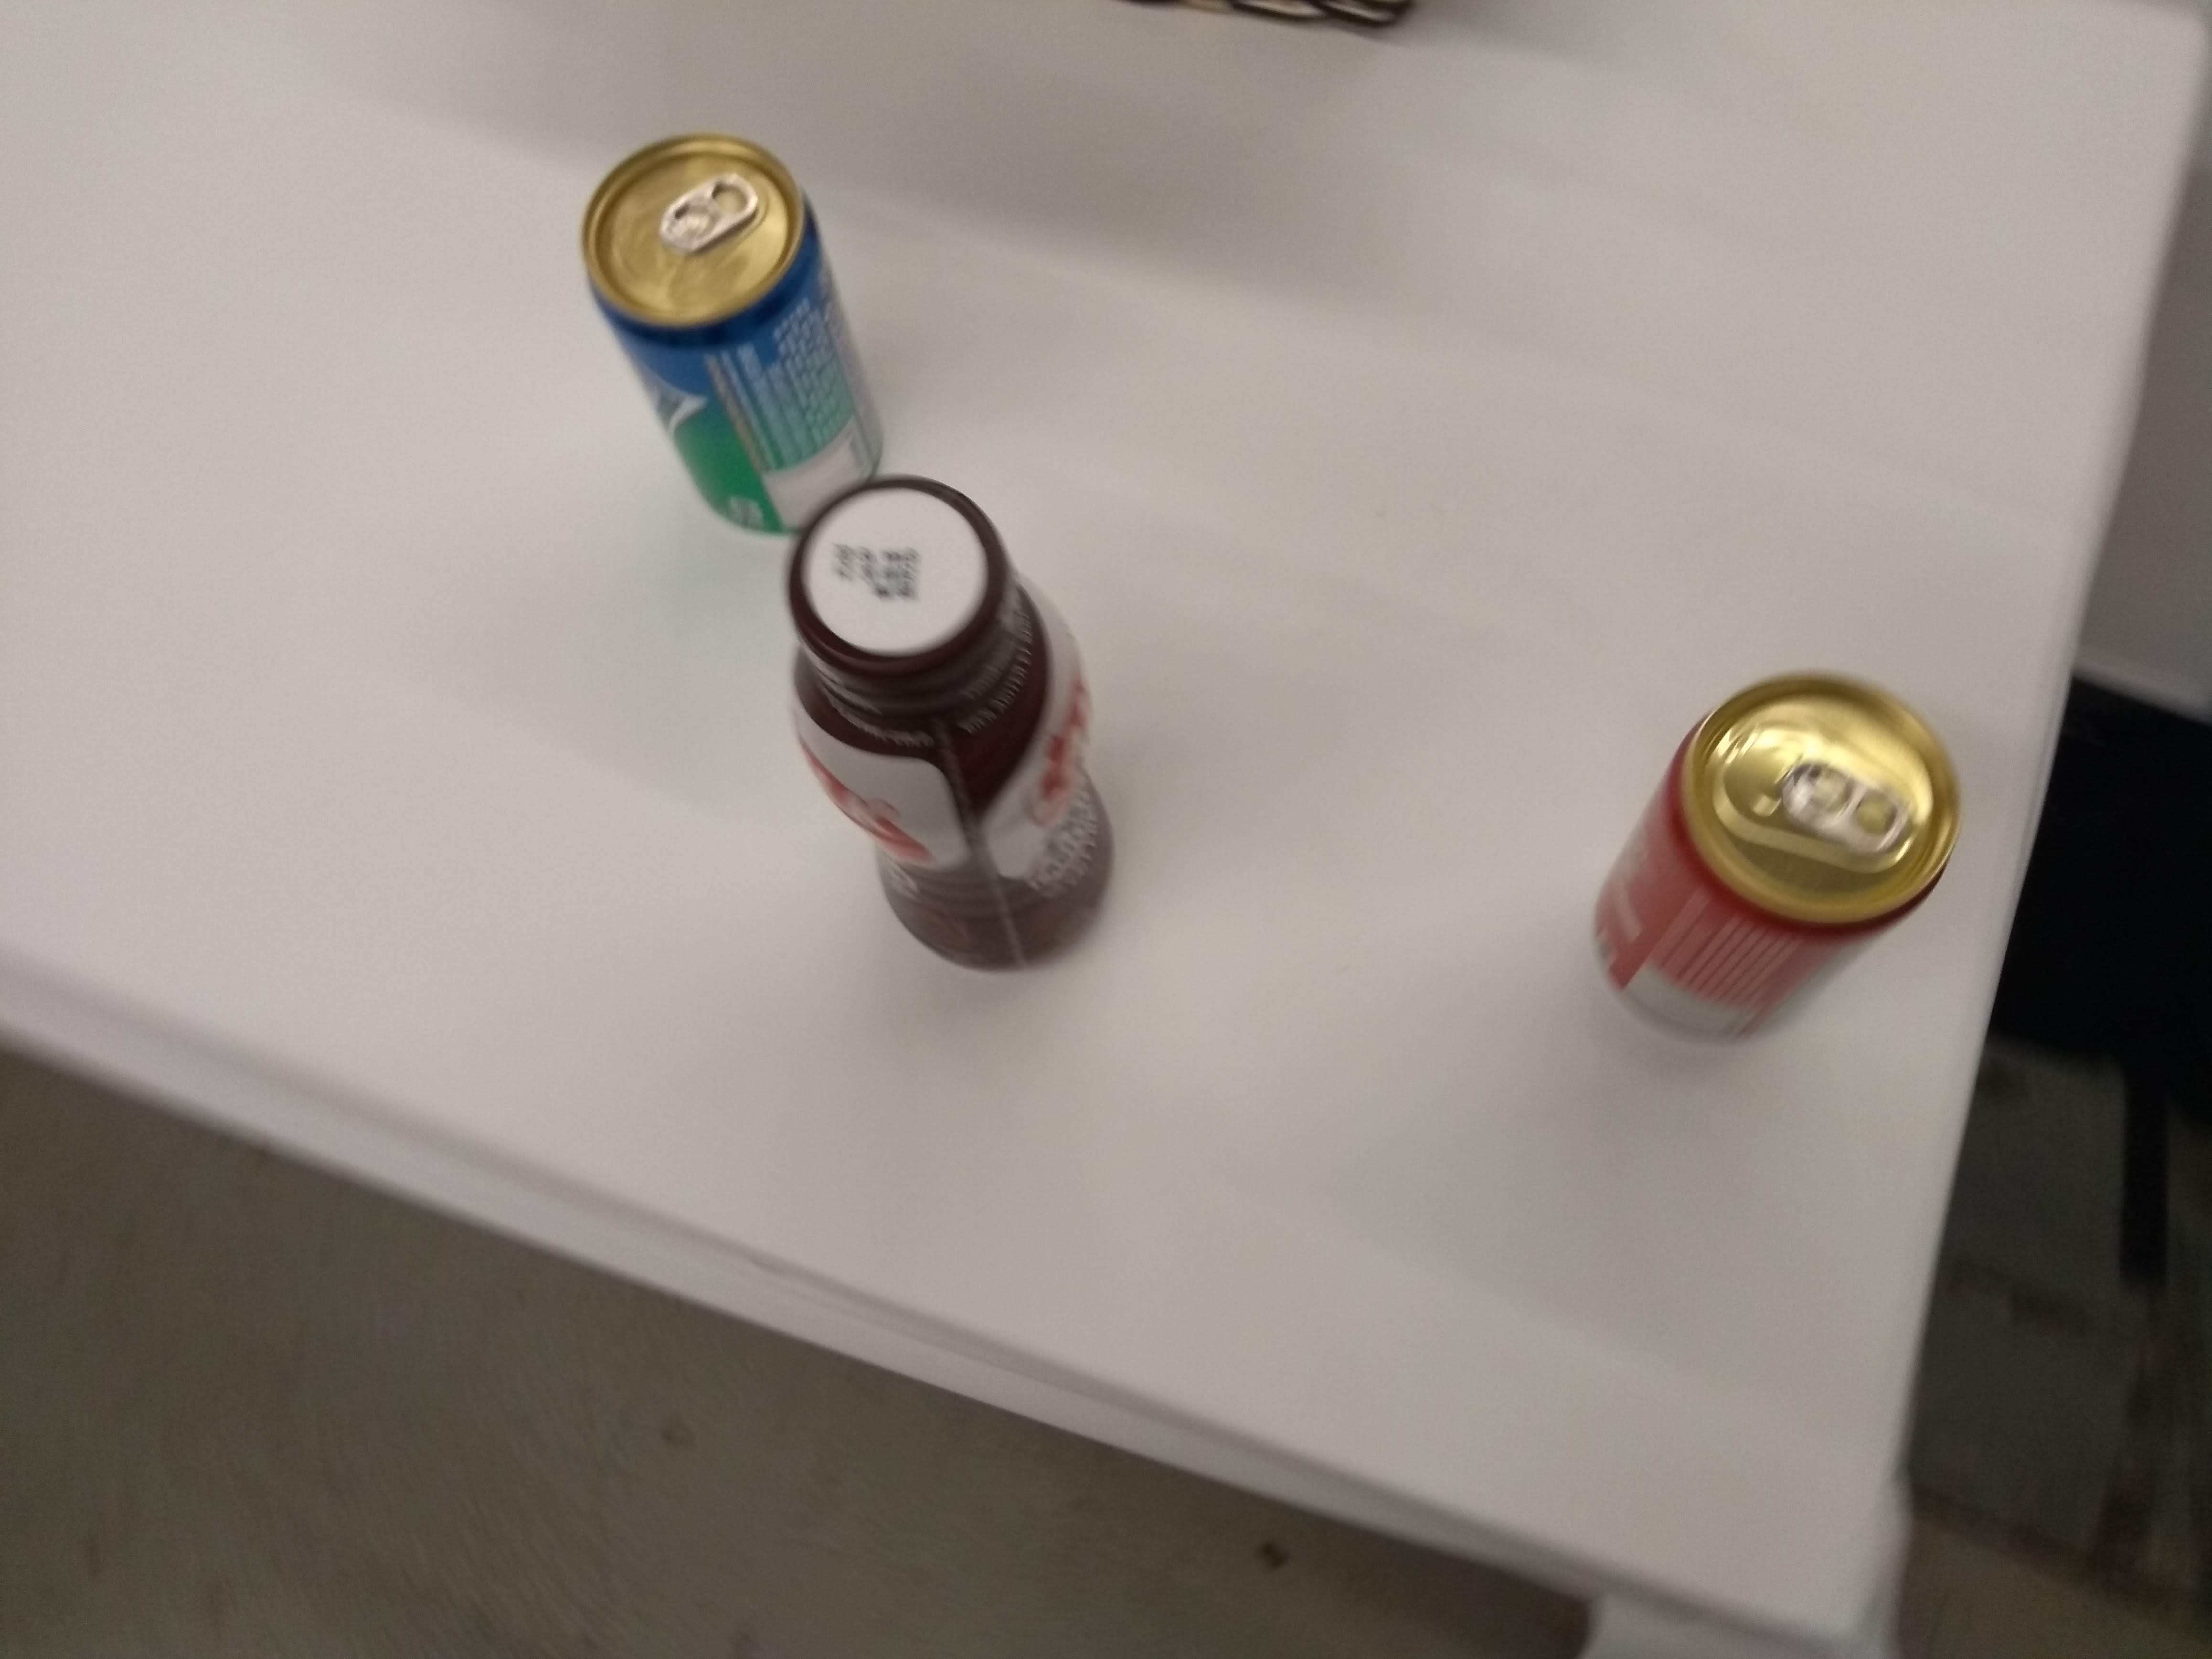chocolate_drink: (766, 469, 1137, 985)
coke: (1576, 653, 1970, 1058)
sprite: (568, 117, 904, 547)
